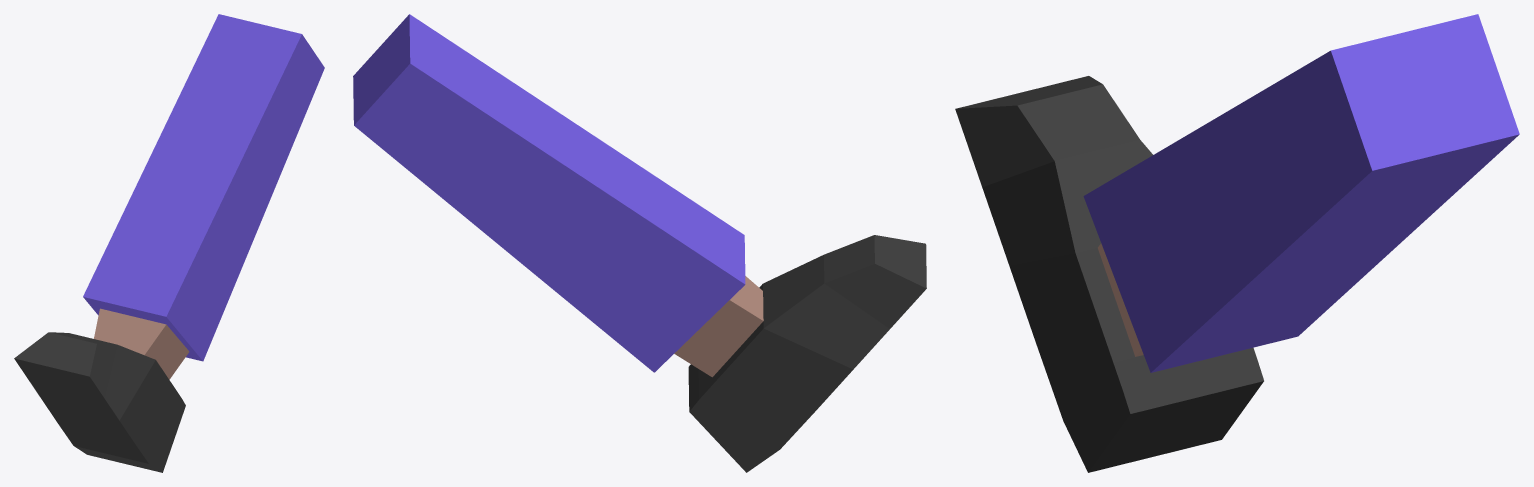
The model's file is kanal.fbx.
3 views of the same model, side by side, from view 1: azimuth 30°, elevation 25°; view 2: azimuth 150°, elevation 25°; view 3: azimuth 270°, elevation 25° (orthographic). The views are drawn at different scales.
Parts seen in each view (by area): view 1: Plane.002; view 2: Plane.002; view 3: Plane.002.
Part boxes in pixels (x1,y1,x2,y2): Plane.002: [14, 14, 324, 472]; Plane.002: [353, 14, 926, 472]; Plane.002: [955, 14, 1519, 472].
Bounding box in the file's own units: 14.93 × 12.37 × 10.5.
